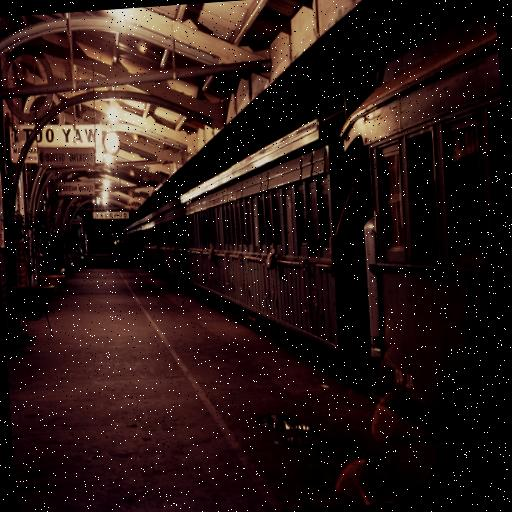platform_edge: (116, 259, 463, 512)
